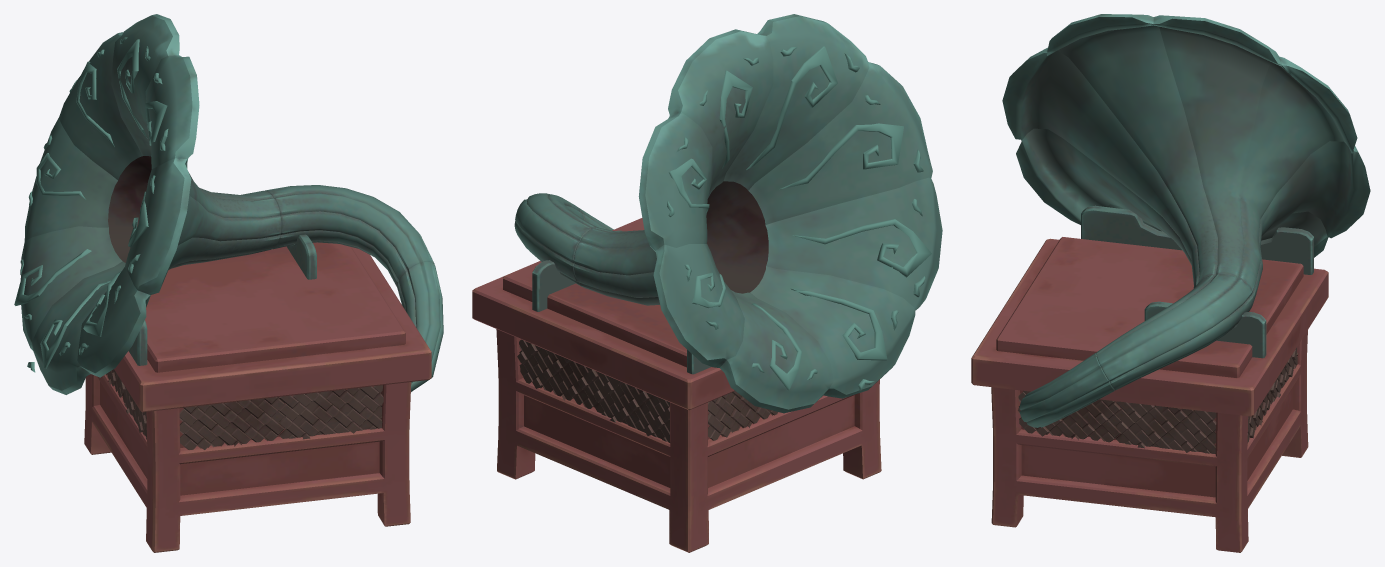
File: TRINKET_Surveillance Variant.fbx
3 renders of one model, left to right at view 1: azimuth 30°, elevation 25°; view 2: azimuth 150°, elevation 25°; view 3: azimuth 270°, elevation 25°, orthographic. The views are drawn at different scales.
Parts seen in each view (by area): view 1: horn, deskTop, gramophoneBase, woodGrid2, detail2, interior, base, woodGrid1, base1; view 2: horn, gramophoneBase, deskTop, detail2, woodGrid, interior, woodGrid1, base; view 3: horn, deskTop, gramophoneBase, woodGrid3, base1, base, woodGrid.
Boxes of the visible parts, x1=… form: horn: x1=20, y1=14, x2=443, y2=394; deskTop: x1=114, y1=242, x2=431, y2=412; gramophoneBase: x1=84, y1=374, x2=411, y2=552; woodGrid2: x1=179, y1=385, x2=383, y2=449; detail2: x1=14, y1=37, x2=168, y2=372; interior: x1=108, y1=156, x2=151, y2=262; base: x1=286, y1=234, x2=316, y2=279; woodGrid1: x1=106, y1=369, x2=146, y2=439; base1: x1=128, y1=320, x2=147, y2=365; horn: x1=514, y1=14, x2=942, y2=413; gramophoneBase: x1=496, y1=329, x2=881, y2=552; deskTop: x1=472, y1=218, x2=734, y2=410; detail2: x1=667, y1=46, x2=931, y2=390; woodGrid: x1=517, y1=339, x2=670, y2=442; interior: x1=706, y1=181, x2=768, y2=293; woodGrid1: x1=708, y1=391, x2=778, y2=440; base: x1=532, y1=230, x2=622, y2=311; horn: x1=1002, y1=14, x2=1370, y2=427; deskTop: x1=971, y1=237, x2=1328, y2=416; gramophoneBase: x1=991, y1=330, x2=1308, y2=552; woodGrid3: x1=1018, y1=390, x2=1216, y2=453; base1: x1=1081, y1=205, x2=1313, y2=274; base: x1=1144, y1=301, x2=1266, y2=358; woodGrid: x1=1247, y1=347, x2=1297, y2=442.
Size of the model in its own units: 2.04 by 2.43 by 1.99.
1 material, 1 textured.
